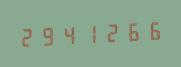four: (59, 21, 79, 47)
nine: (38, 22, 58, 48)
one: (80, 20, 100, 46)
six: (122, 18, 142, 44), (143, 17, 163, 43)
two: (17, 23, 37, 49), (101, 19, 121, 45)
